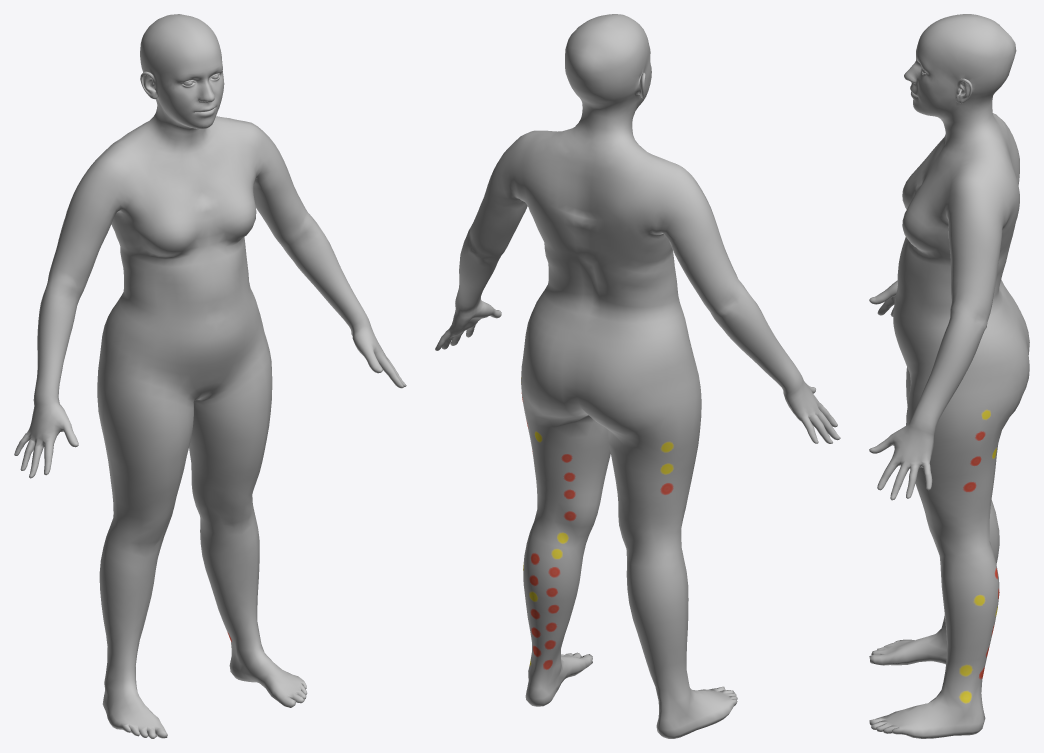
File: 1135039-hipflex-red+yellow.gltf
The picture shows the model from 3 angles, left to right: view 1: azimuth 30°, elevation 25°; view 2: azimuth 150°, elevation 25°; view 3: azimuth 270°, elevation 25°; orthographic projection. The views are drawn at different scales.
Parts seen in each view (by area): view 1: Female 60in 130lbs; view 2: Female 60in 130lbs; view 3: Female 60in 130lbs.
Boxes of the visible parts, left/top/right/bottom form: Female 60in 130lbs: left=14, top=14, right=406, bottom=738; Female 60in 130lbs: left=435, top=14, right=840, bottom=738; Female 60in 130lbs: left=869, top=14, right=1029, bottom=738.
Size of the model in its own units: 2.68 by 4.58 by 0.9768.
1 material, 1 textured.
